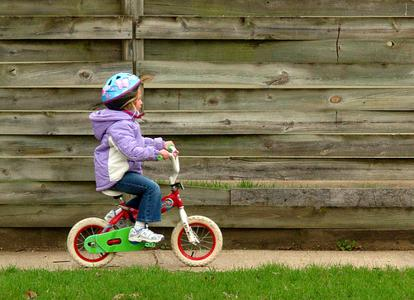person: (88, 71, 172, 245)
